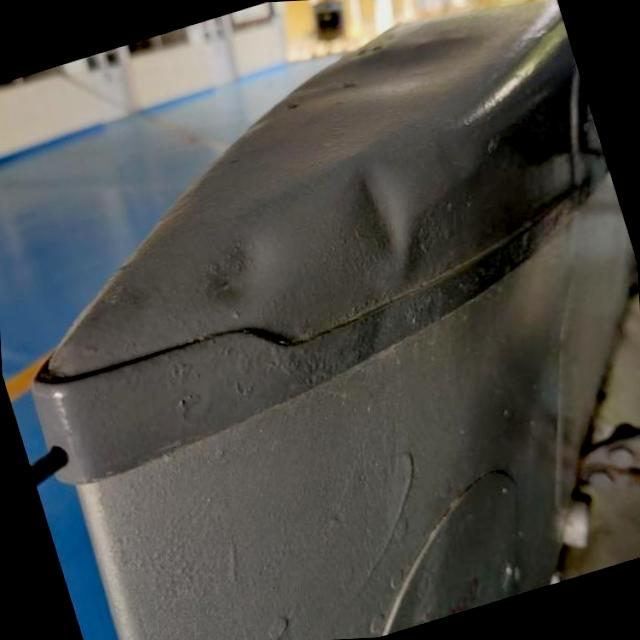dent: (328, 155, 418, 285), (184, 225, 283, 328)
